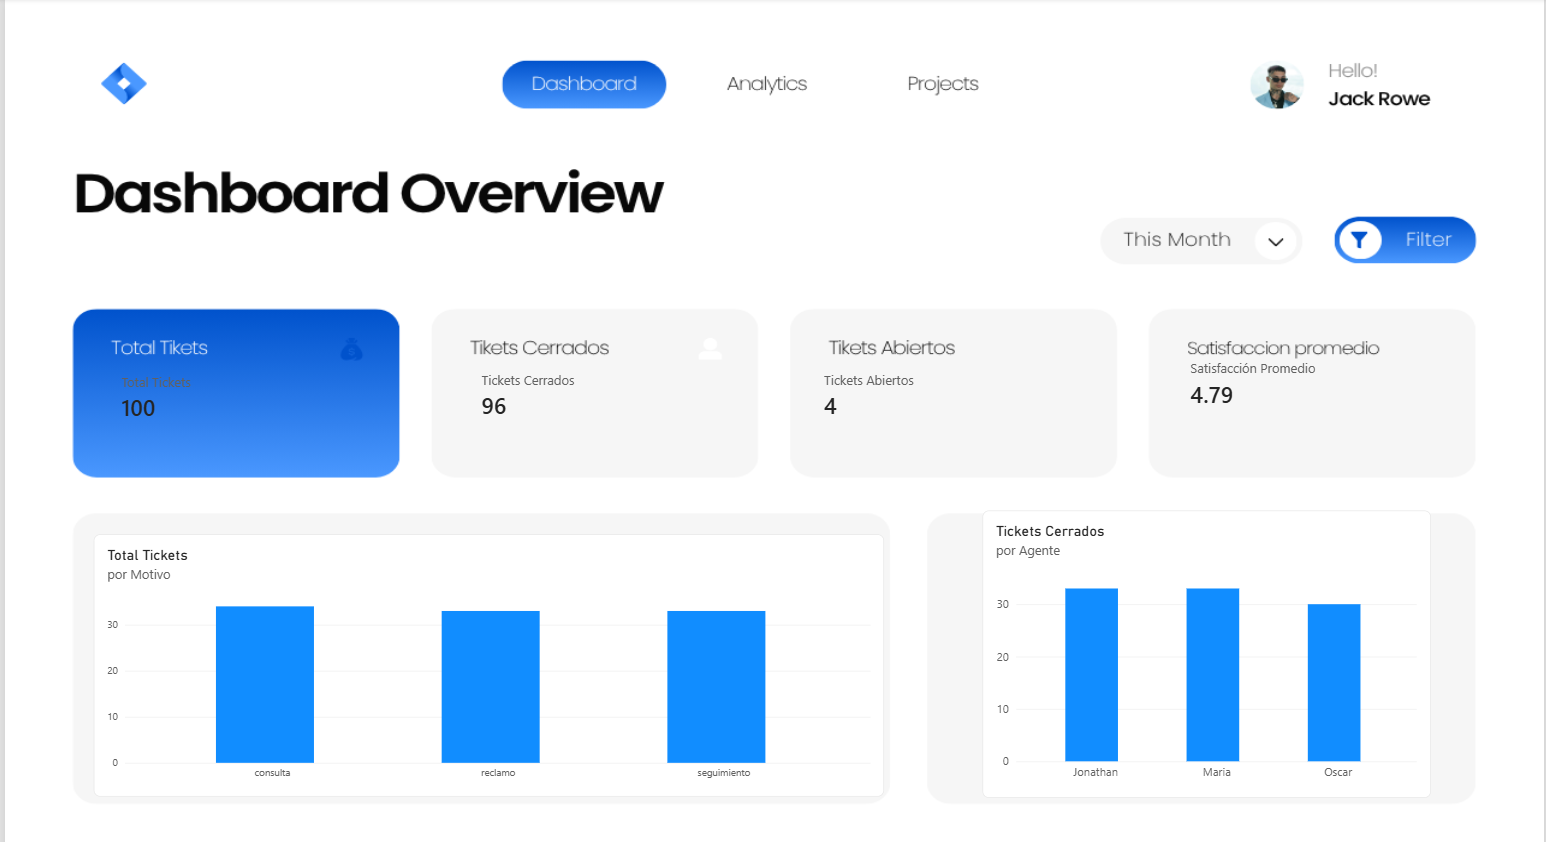

The page's visual inventory and layout, read from the dashboard file:
{"tool":"powerbi","page":{"name":"Página 1","canvas":[1920,1080],"ordinal":0},"visuals":[{"type":"cardVisual","title":"hola","fields":{"Data":["Tickets.Total Tickets"]},"box":[129.7,247.9,500,500],"z":0},{"type":"cardVisual","fields":{"Data":["Tickets.Tickets Cerrados"]},"box":[577.8,341.4,491.9,310.8],"z":1000},{"type":"cardVisual","fields":{"Data":["Tickets.Tickets Abiertos"]},"box":[1005,341.4,492,311],"z":2000},{"type":"cardVisual","fields":{"Data":["Tickets.Satisfacción Promedio"]},"box":[1462.7,368.1,358.5,228.8],"z":3000},{"type":"clusteredColumnChart","fields":{"Category":["Tickets.Motivo"],"Y":["Tickets.Total Tickets"]},"box":[110.6,669.4,985.9,327.3],"z":4000},{"type":"clusteredColumnChart","fields":{"Category":["Tickets.Agente"],"Y":["Tickets.Tickets Cerrados"]},"box":[1218.6,638.9,559,358],"z":5000}]}

Visuals, with their boxes on the page's 1920x1080 design canvas (x1, y1, x2, y2). These are canvas units, not pixel positions in the 1546x842 screenshot, which may show the page scaled, cropped or inside an application window:
"hola" cardVisual: <bbox>130, 248, 630, 748</bbox>
cardVisual - Tickets.Tickets Cerrados: <bbox>578, 341, 1070, 652</bbox>
cardVisual - Tickets.Tickets Abiertos: <bbox>1005, 341, 1497, 652</bbox>
cardVisual - Tickets.Satisfacción Promedio: <bbox>1463, 368, 1821, 597</bbox>
clusteredColumnChart - Tickets.Motivo x Tickets.Total Tickets: <bbox>111, 669, 1096, 997</bbox>
clusteredColumnChart - Tickets.Agente x Tickets.Tickets Cerrados: <bbox>1219, 639, 1778, 997</bbox>
